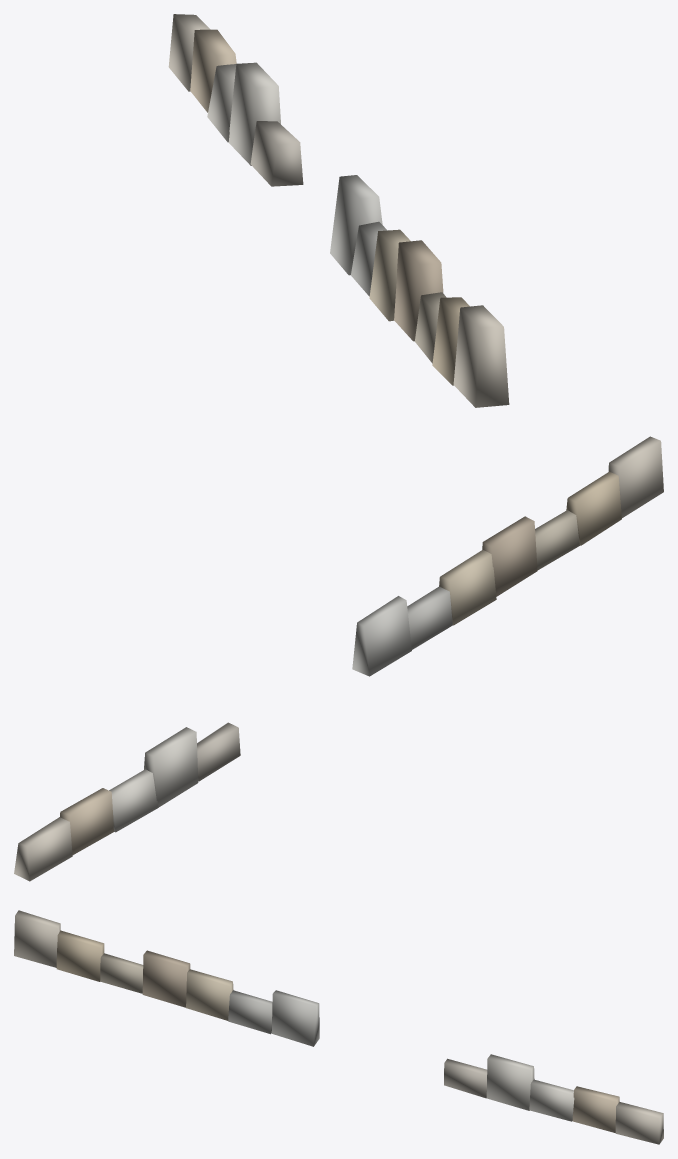
Rendered from farm_0_8_far.glb.
3 views of the same model, one above another, from view 1: azimuth 30°, elevation 25°; view 2: azimuth 150°, elevation 25°; view 3: azimuth 270°, elevation 25° (orthographic). The views are drawn at different scales.
Visible parts, largest first — view 1: geometry_0; view 2: geometry_0; view 3: geometry_0.
Part boxes in pixels (x1,y1,x2,y2): geometry_0: (168,14,509,407); geometry_0: (14,436,663,881); geometry_0: (14,910,663,1144).
Size of the model in its own units: 7.48 by 5.7 by 22.9.
